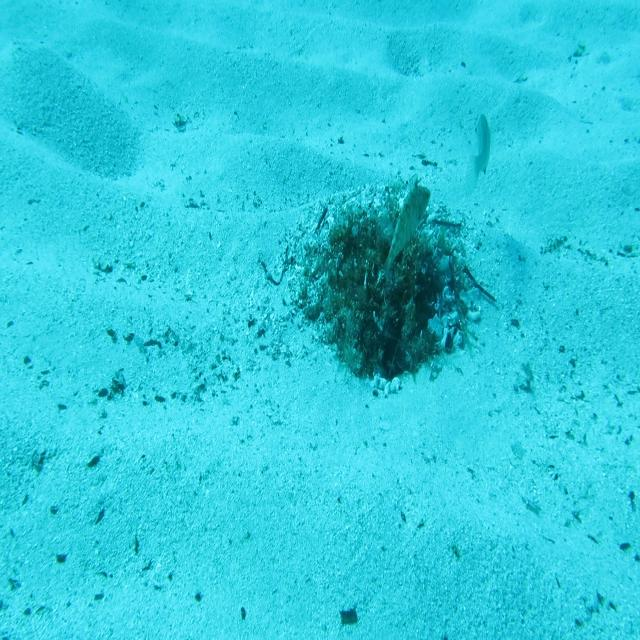MAF: (380, 172, 432, 283)
core_nest: (354, 233, 396, 260)
female: (462, 112, 499, 202)
nest: (278, 160, 492, 407)
vegetation: (338, 606, 359, 626)
